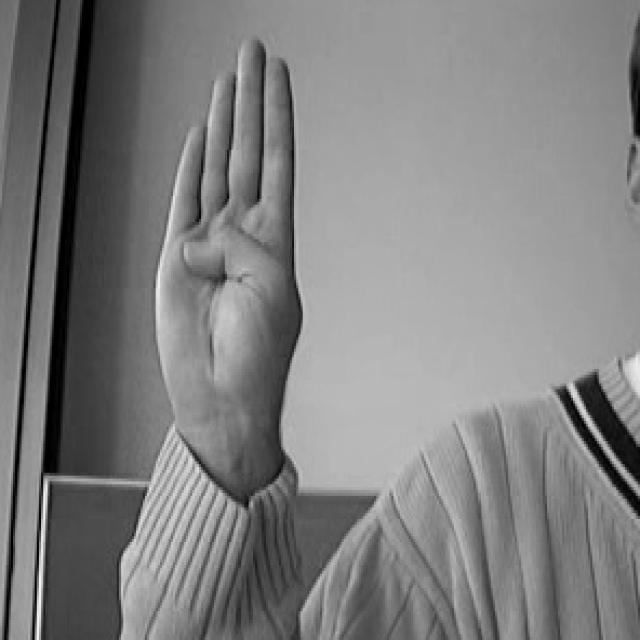B: (118, 26, 337, 482)
